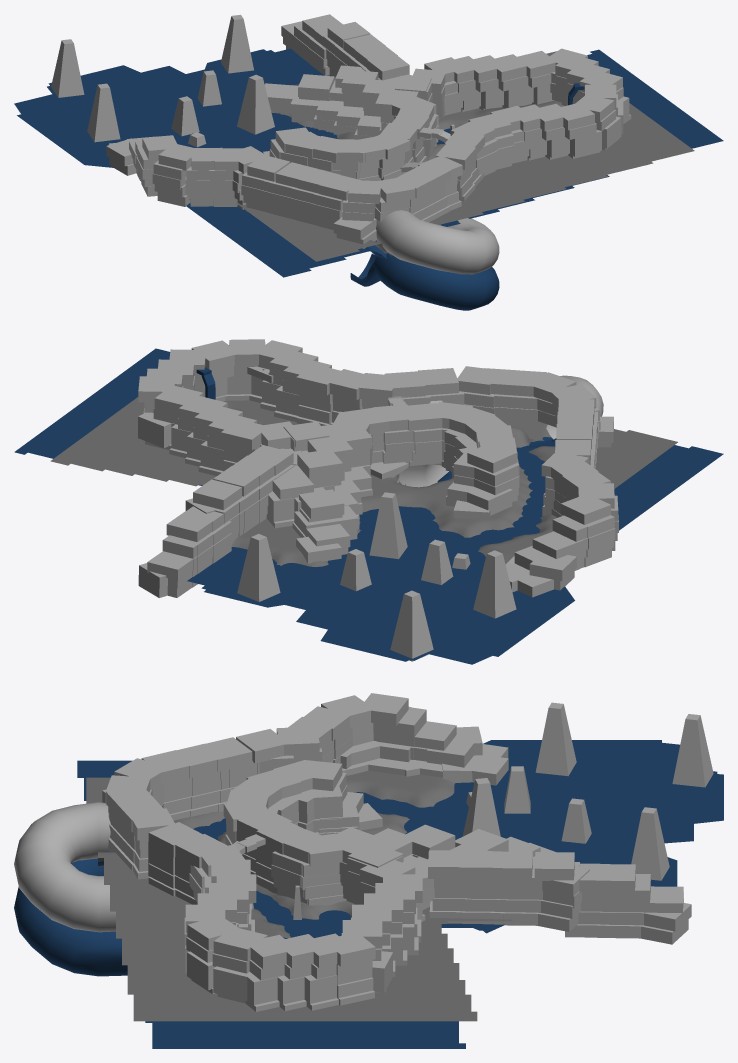
File: BlockoutFlying.fbx
3 renders of one model, top to bottom at view 1: azimuth 30°, elevation 25°; view 2: azimuth 150°, elevation 25°; view 3: azimuth 270°, elevation 25°, orthographic. The views are drawn at different scales.
Parts seen in each view (by area): view 1: pCube273; view 2: pCube273; view 3: pCube273.
Boxes of the visible parts, x1=… form: pCube273: x1=14, y1=14, x2=723, y2=310; pCube273: x1=14, y1=339, x2=723, y2=664; pCube273: x1=14, y1=693, x2=723, y2=1048.
Bounding box in the file's own units: 1223 × 382 × 1187.
